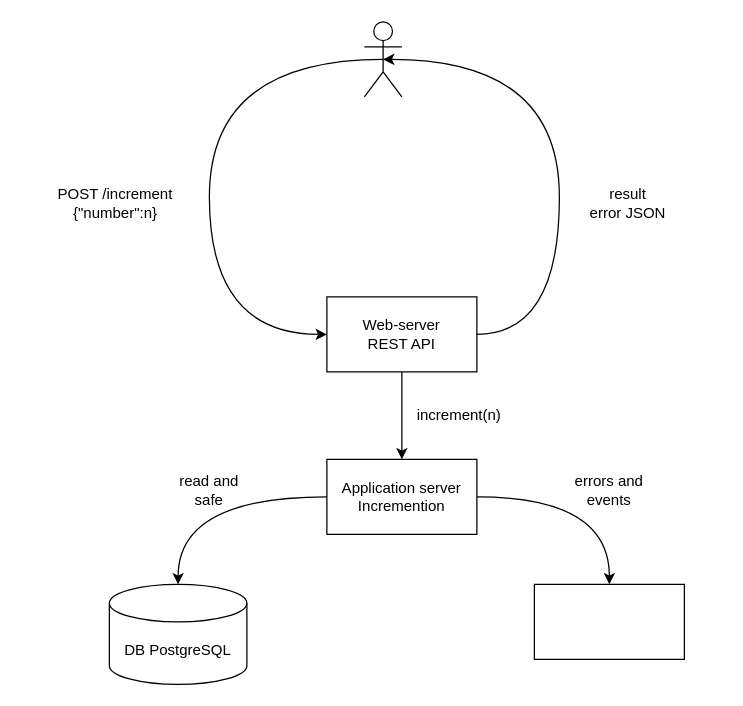
The diagram is 743 pixels wide and 706 high, and some of its shapes have lost their labels. Each missing label, with the centre of its shape:
Client: point (382, 59)
stdout::: point (608, 621)
